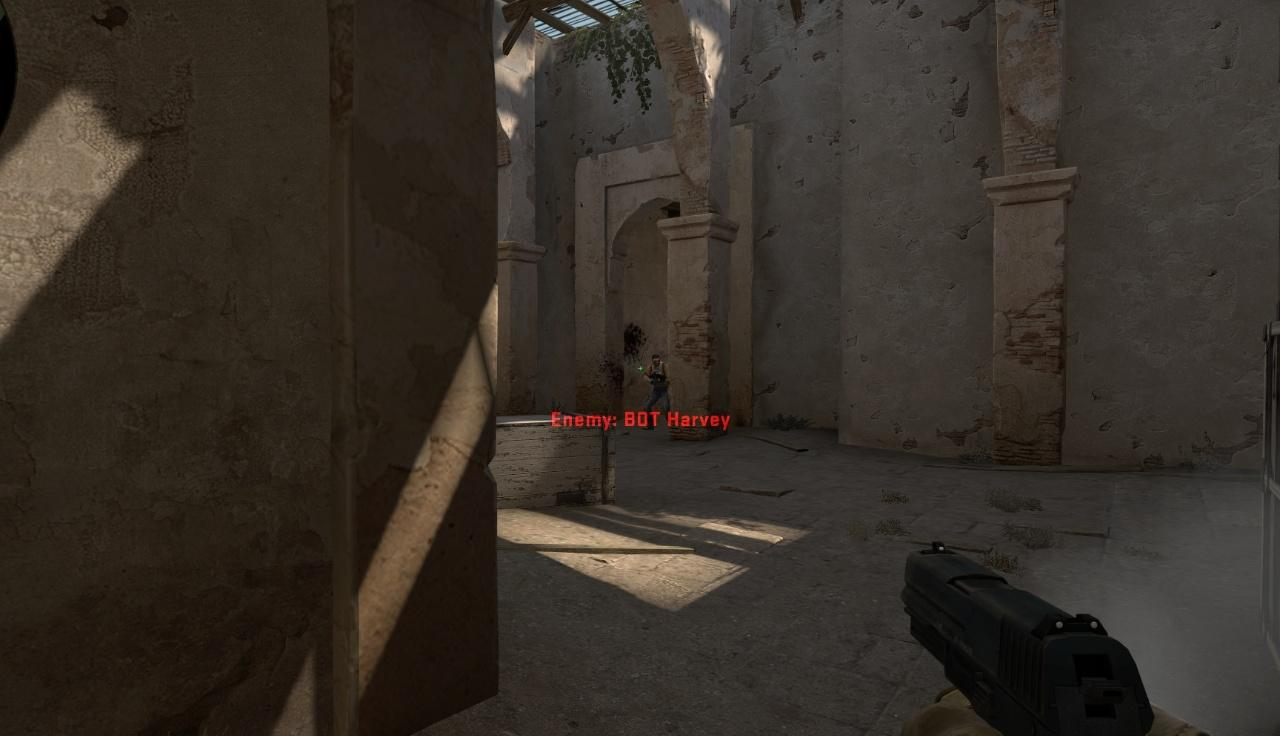pistol: (902, 543, 1217, 736)
tt: (643, 354, 670, 429)
tthead: (652, 355, 660, 366)
